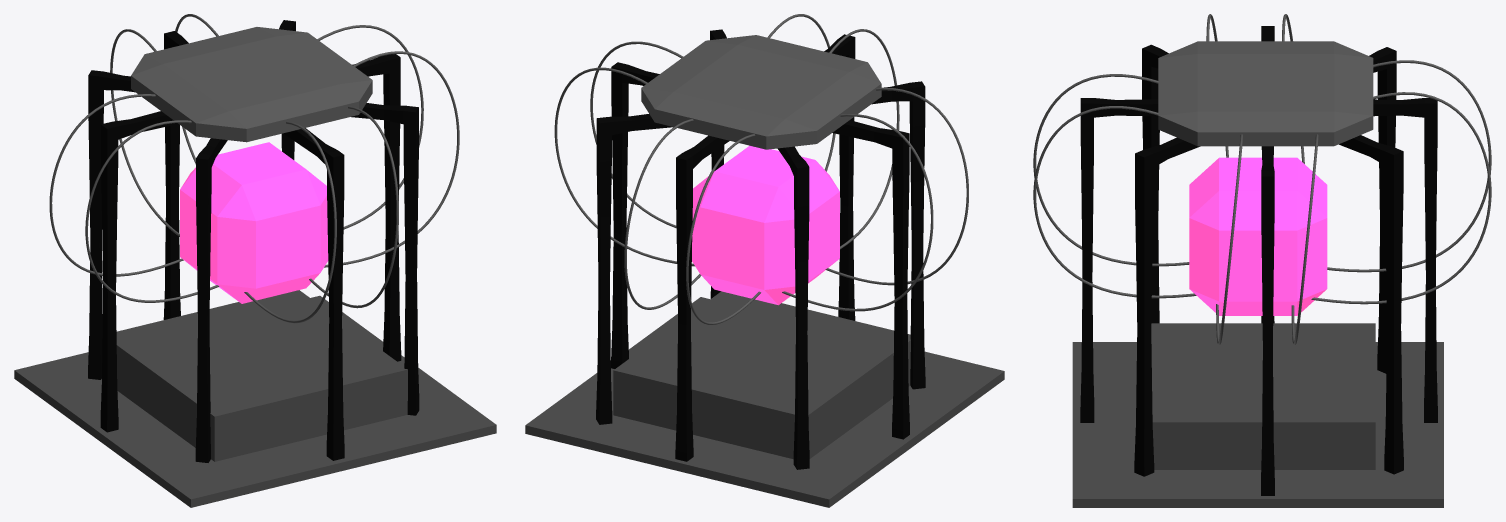
File: PowerStorageLevel5.fbx
The picture shows the model from 3 angles, left to right: view 1: azimuth 30°, elevation 25°; view 2: azimuth 150°, elevation 25°; view 3: azimuth 270°, elevation 25°; orthographic projection. The views are drawn at different scales.
Visible parts, largest first — view 1: Cube.001, Cube, Cube.003, Cube.002, NurbsPath, NurbsPath.002, NurbsPath.003, NurbsPath.005, NurbsPath.004, NurbsPath.001, NurbsPath.006; view 2: Cube.001, Cube, Cube.003, Cube.002, NurbsPath.002, NurbsPath.003, NurbsPath.001, NurbsPath.006, NurbsPath.007, NurbsPath.005, NurbsPath; view 3: Cube.001, Cube, Cube.003, Cube.002, NurbsPath.007, NurbsPath.004, NurbsPath.006, NurbsPath.005, NurbsPath.001, NurbsPath.
Part boxes in pixels (bbox=[...]): Cube.001: bbox=[14, 290, 496, 507]; Cube: bbox=[88, 20, 419, 462]; Cube.003: bbox=[131, 27, 372, 142]; Cube.002: bbox=[180, 142, 328, 303]; NurbsPath: bbox=[324, 51, 459, 267]; NurbsPath.002: bbox=[49, 94, 183, 276]; NurbsPath.003: bbox=[85, 120, 219, 302]; NurbsPath.005: bbox=[244, 121, 336, 323]; NurbsPath.004: bbox=[309, 106, 398, 308]; NurbsPath.001: bbox=[317, 25, 423, 229]; NurbsPath.006: bbox=[110, 29, 179, 236]; Cube.001: bbox=[525, 291, 1004, 507]; Cube: bbox=[596, 29, 925, 469]; Cube.003: bbox=[641, 35, 881, 149]; Cube.002: bbox=[692, 145, 839, 305]; NurbsPath.002: bbox=[782, 113, 933, 311]; NurbsPath.003: bbox=[825, 87, 968, 285]; NurbsPath.001: bbox=[554, 67, 694, 266]; NurbsPath.006: bbox=[686, 134, 760, 324]; NurbsPath.007: bbox=[624, 119, 701, 309]; NurbsPath.005: bbox=[829, 29, 899, 249]; NurbsPath: bbox=[590, 41, 683, 228]; Cube.001: bbox=[1072, 323, 1443, 507]; Cube: bbox=[1080, 26, 1437, 495]; Cube.003: bbox=[1158, 41, 1373, 146]; Cube.002: bbox=[1189, 157, 1327, 315]; NurbsPath.007: bbox=[1311, 92, 1491, 304]; NurbsPath.004: bbox=[1033, 106, 1196, 298]; NurbsPath.006: bbox=[1327, 60, 1491, 272]; NurbsPath.005: bbox=[1033, 74, 1189, 266]; NurbsPath.001: bbox=[1291, 134, 1318, 344]; NurbsPath: bbox=[1216, 134, 1242, 344].
Bounding box in the file's own units: 1.95 × 1.63 × 1.95.
